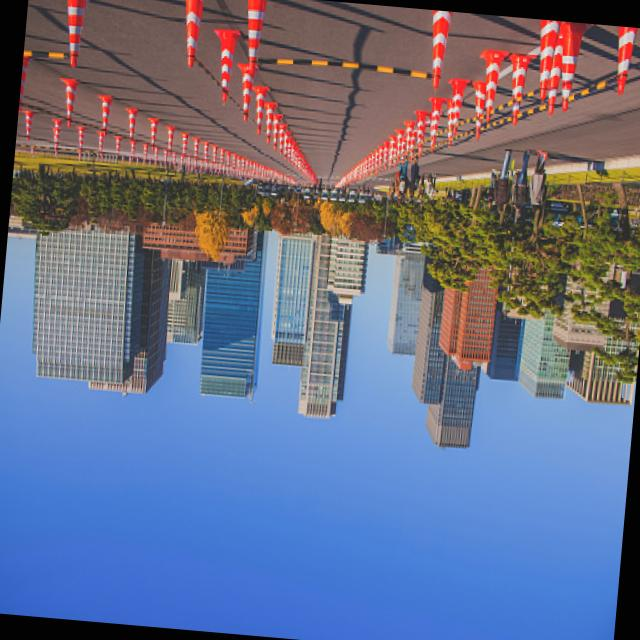cone: (228, 0, 278, 87), (47, 0, 104, 69), (165, 0, 214, 76), (416, 8, 458, 87), (597, 25, 640, 100)
